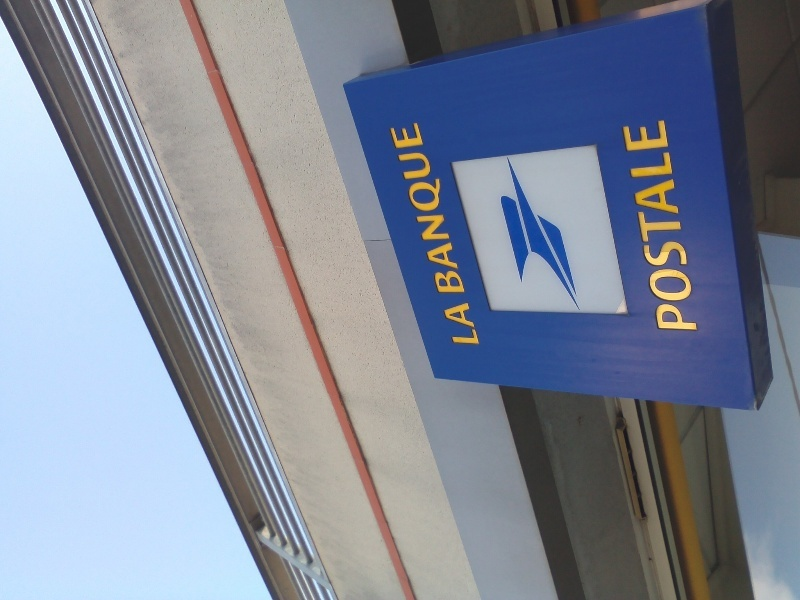text: (625, 112, 640, 335), (641, 112, 656, 335), (657, 112, 672, 335), (673, 112, 688, 335), (689, 112, 703, 335), (433, 115, 448, 297), (449, 115, 464, 297), (424, 115, 432, 297), (620, 112, 624, 335), (465, 115, 469, 297), (449, 299, 464, 345), (465, 299, 480, 345), (439, 299, 448, 345), (481, 299, 484, 345)
